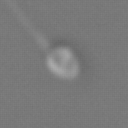normal: (4, 1, 50, 49)
